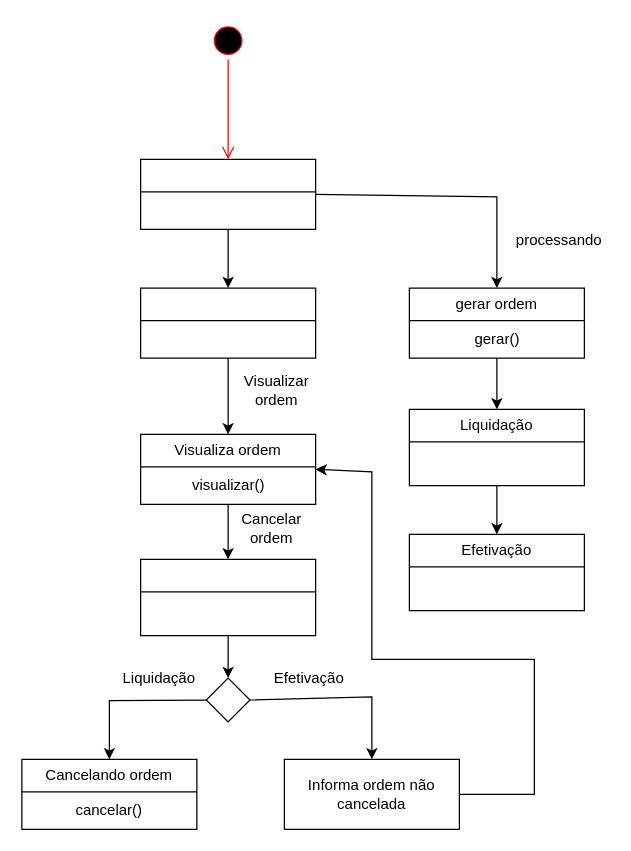
This 631x851 diagram has some shape labels left out. The centre of each missing label's shape, as x and y in pixels:
"Ativa" belongs at point 227,193.
"Consultando satus" belongs at point 227,597.
"Seleciona ordem" belongs at point 227,322.
